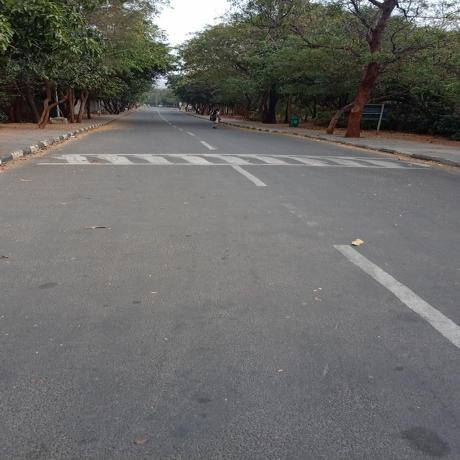Speed Bump: (13, 151, 432, 166)
